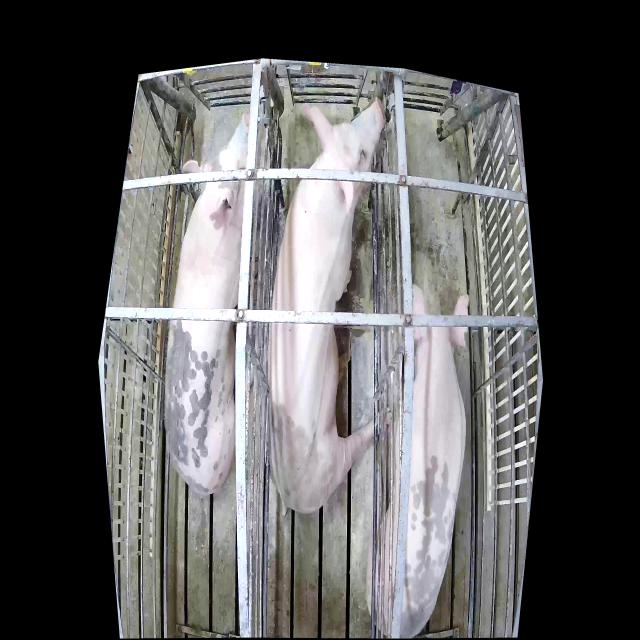pig: (267, 101, 384, 516), (365, 283, 470, 638), (165, 110, 257, 493)
